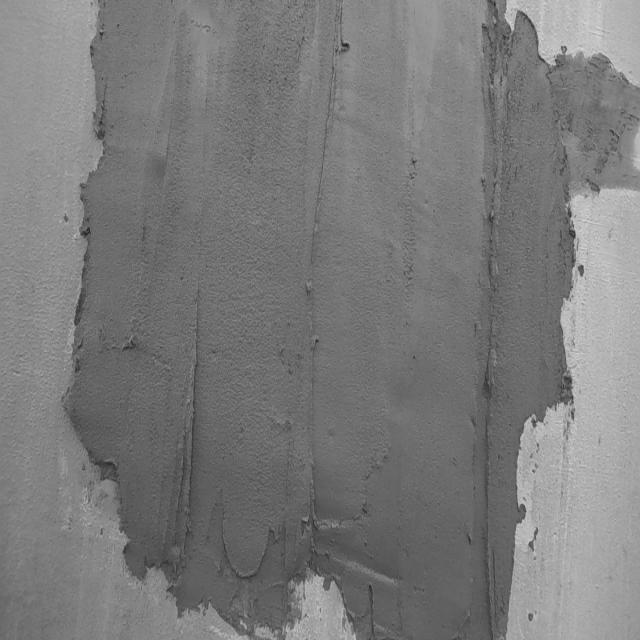trowels marks: (303, 0, 348, 521), (477, 62, 504, 640), (179, 237, 202, 560)
